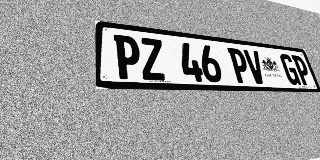4: (178, 42, 204, 82)
6: (198, 44, 223, 82)
G: (279, 54, 301, 85)
P: (114, 34, 142, 80), (227, 48, 252, 83), (291, 55, 313, 85)
V: (243, 49, 267, 84)
Z: (139, 37, 167, 81)
